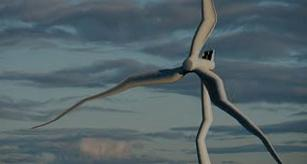faulty: (125, 45, 265, 135)
